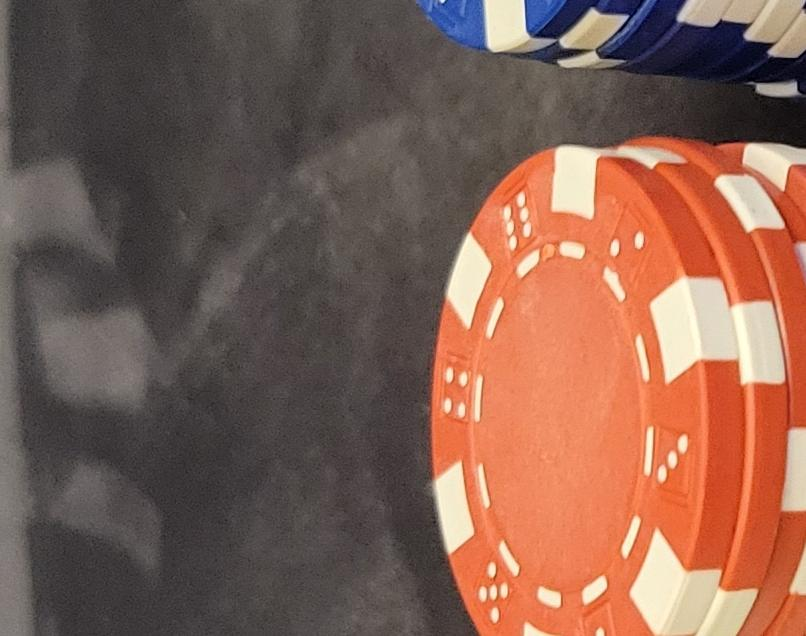Chip: (1, 370, 388, 636)
